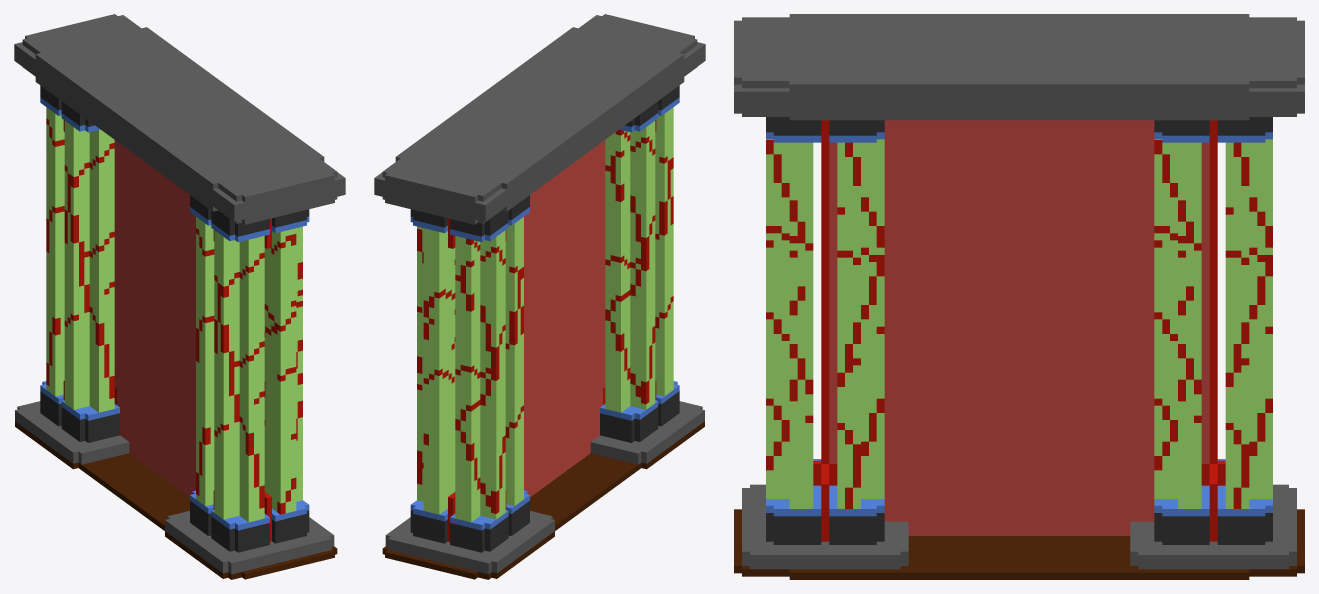
Rendered from Portal.obj.
3 views of the same model, side by side, from view 1: azimuth 30°, elevation 25°; view 2: azimuth 150°, elevation 25°; view 3: azimuth 270°, elevation 25° (orthographic). The views are drawn at different scales.
Visible parts, largest first — view 1: Portal; view 2: Portal; view 3: Portal.
Part boxes in pixels (x1,y1,x2,y2): Portal: [14, 14, 345, 579]; Portal: [374, 14, 705, 579]; Portal: [734, 14, 1304, 579].
Bounding box in the file's own units: 22 × 69 × 72.
1 material, 1 textured.
